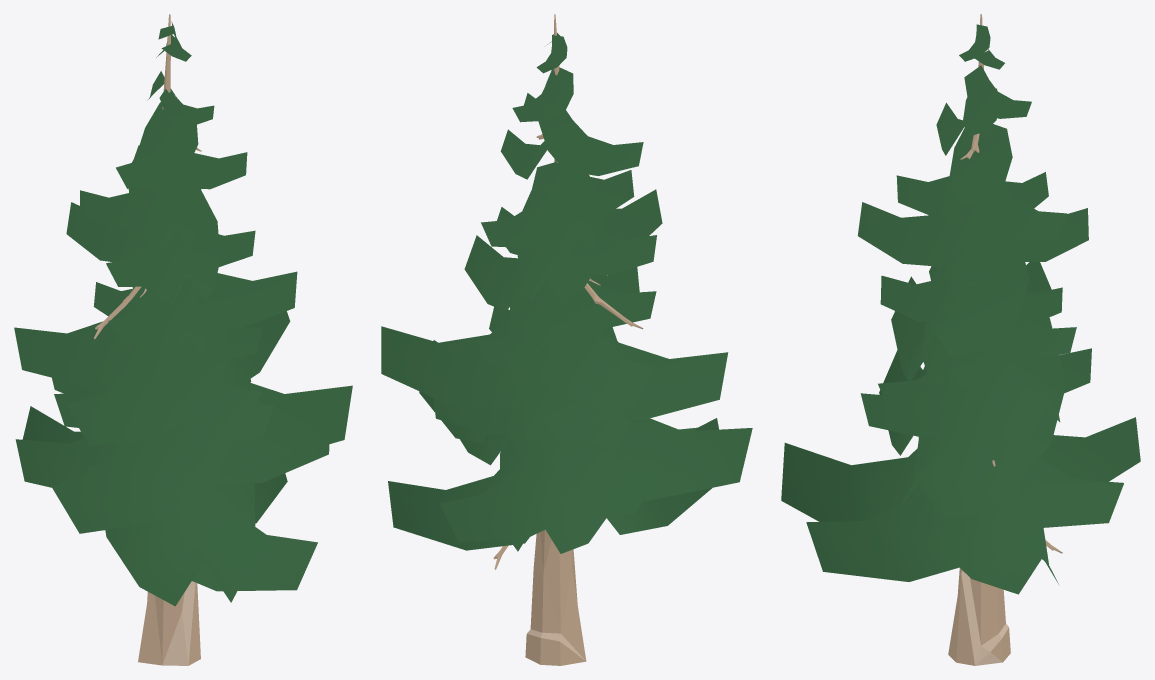
Rendered from pine.glb.
3 views of the same model, side by side, from view 1: azimuth 30°, elevation 25°; view 2: azimuth 150°, elevation 25°; view 3: azimuth 270°, elevation 25° (orthographic).
Visible parts, largest first — view 1: Node; view 2: Node; view 3: Node.
Boxes of the visible parts, x1,y1,x2,y2 form: Node: (14,14,352,665); Node: (381,14,752,665); Node: (781,14,1140,665).
Size of the model in its own units: 6.61 by 13 by 6.63.
